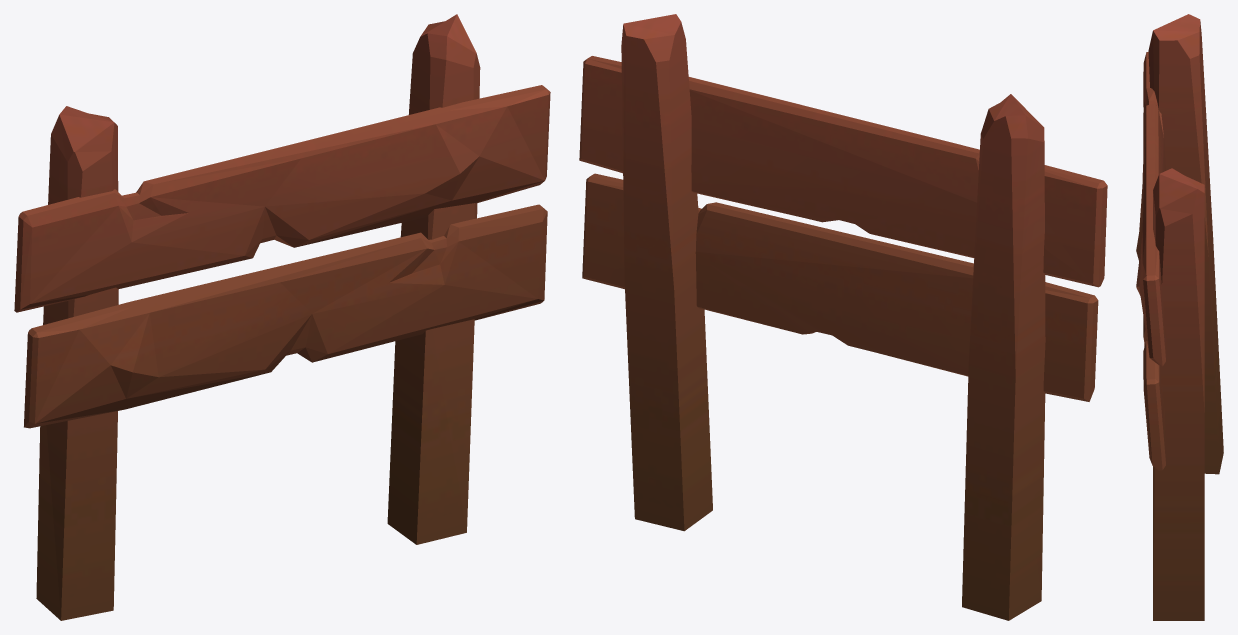
3 views of the same model, side by side, from view 1: azimuth 30°, elevation 25°; view 2: azimuth 150°, elevation 25°; view 3: azimuth 270°, elevation 25° (orthographic). The views are drawn at different scales.
Parts seen in each view (by area): view 1: Fence1; view 2: Fence1; view 3: Fence1.
Boxes of the visible parts, x1=… form: Fence1: x1=14, y1=14, x2=550, y2=620; Fence1: x1=579, y1=14, x2=1107, y2=620; Fence1: x1=1136, y1=14, x2=1223, y2=620.
Bounding box in the file's own units: 240 × 217 × 39.13.
1 material, 1 textured.
